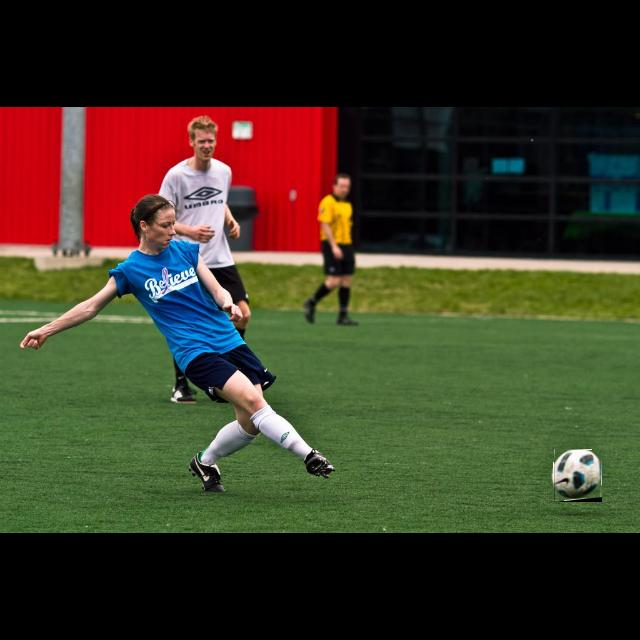Football: (554, 450, 602, 502)
